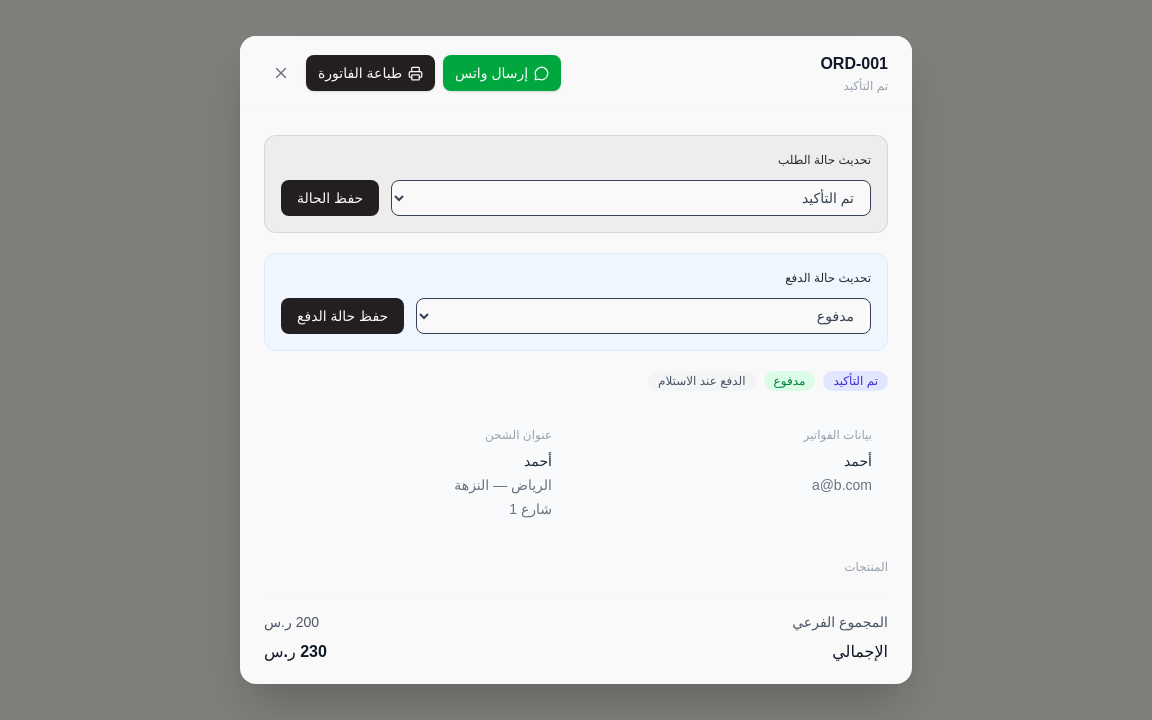
Test case: normalizeWhatsappPhone — Saudi number formatting › shows error banner when no phone number is present
Click the button "إرسال واتس" at (502, 73), box top-left (443, 55), bottom-right (561, 91)
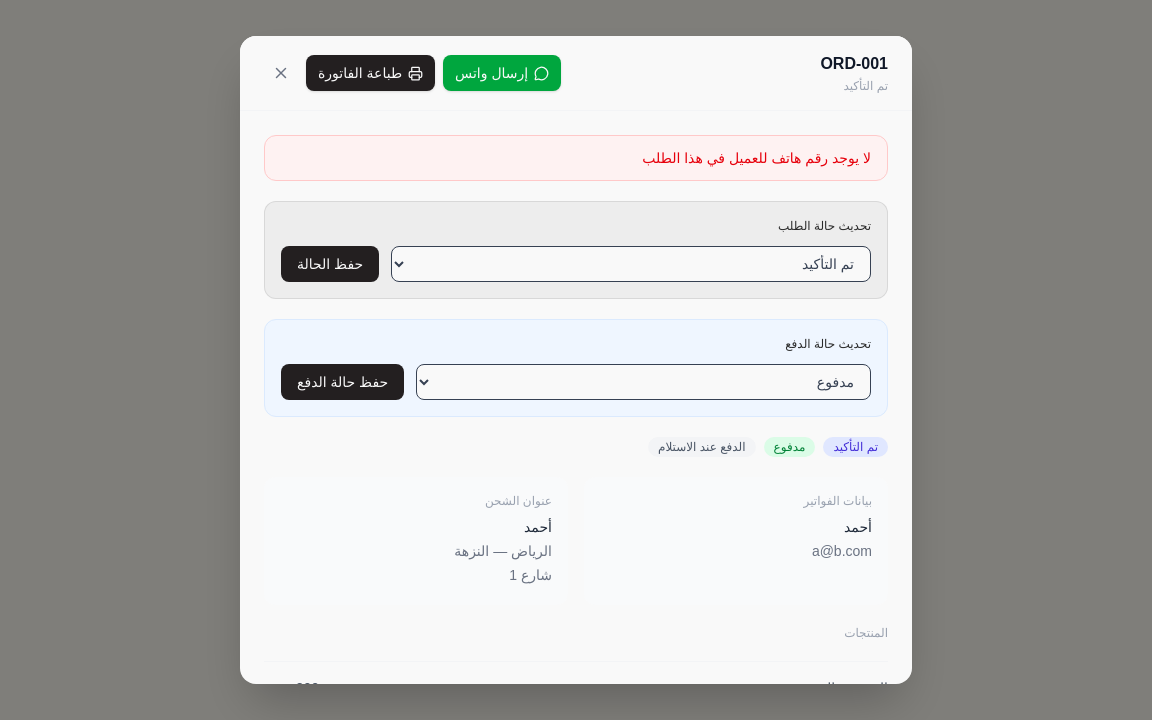
Expected: the text "لا يوجد رقم هاتف للعميل في هذا الطلب" is shown, top-left (264, 135), bottom-right (888, 181)
